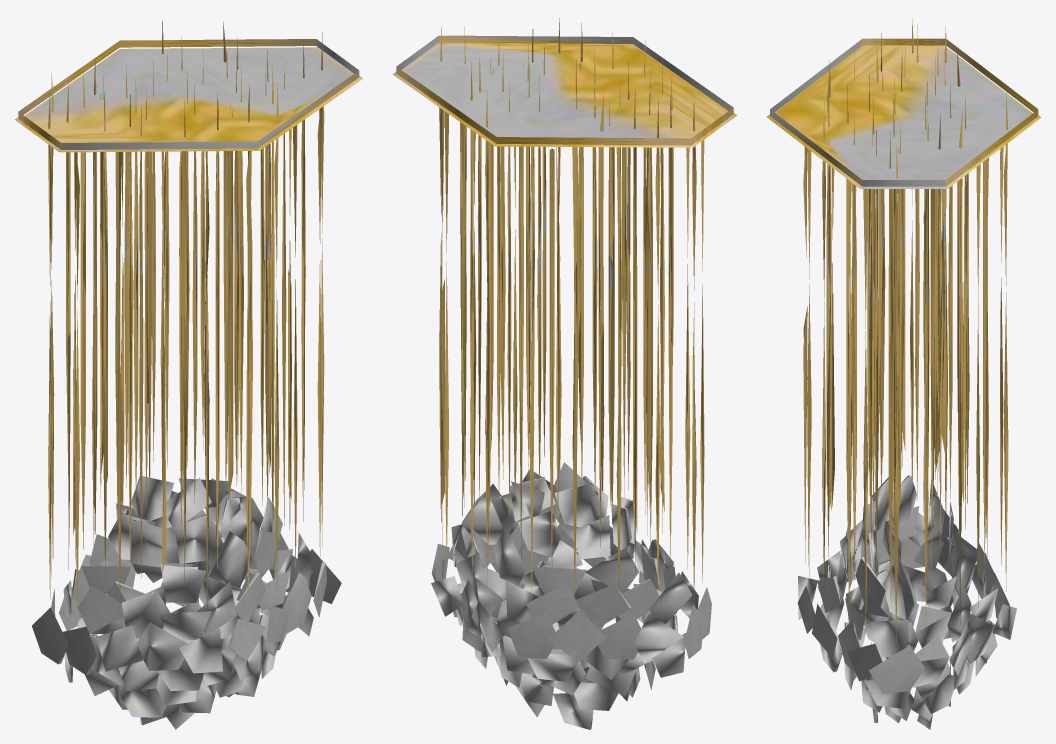
Rendered from LightTop0011.obj.
The picture shows the model from 3 angles, left to right: view 1: azimuth 30°, elevation 25°; view 2: azimuth 150°, elevation 25°; view 3: azimuth 270°, elevation 25°; orthographic projection. The views are drawn at different scales.
Bounding box in the file's own units: 0.72 × 1.5 × 0.581.
Materials: 1 (1 with a texture image).
